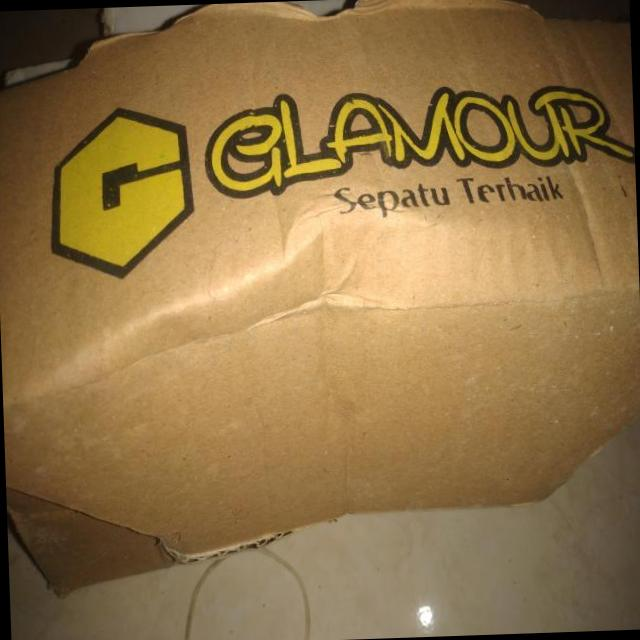box: (117, 137, 351, 476), (355, 157, 560, 508), (194, 318, 408, 529)
